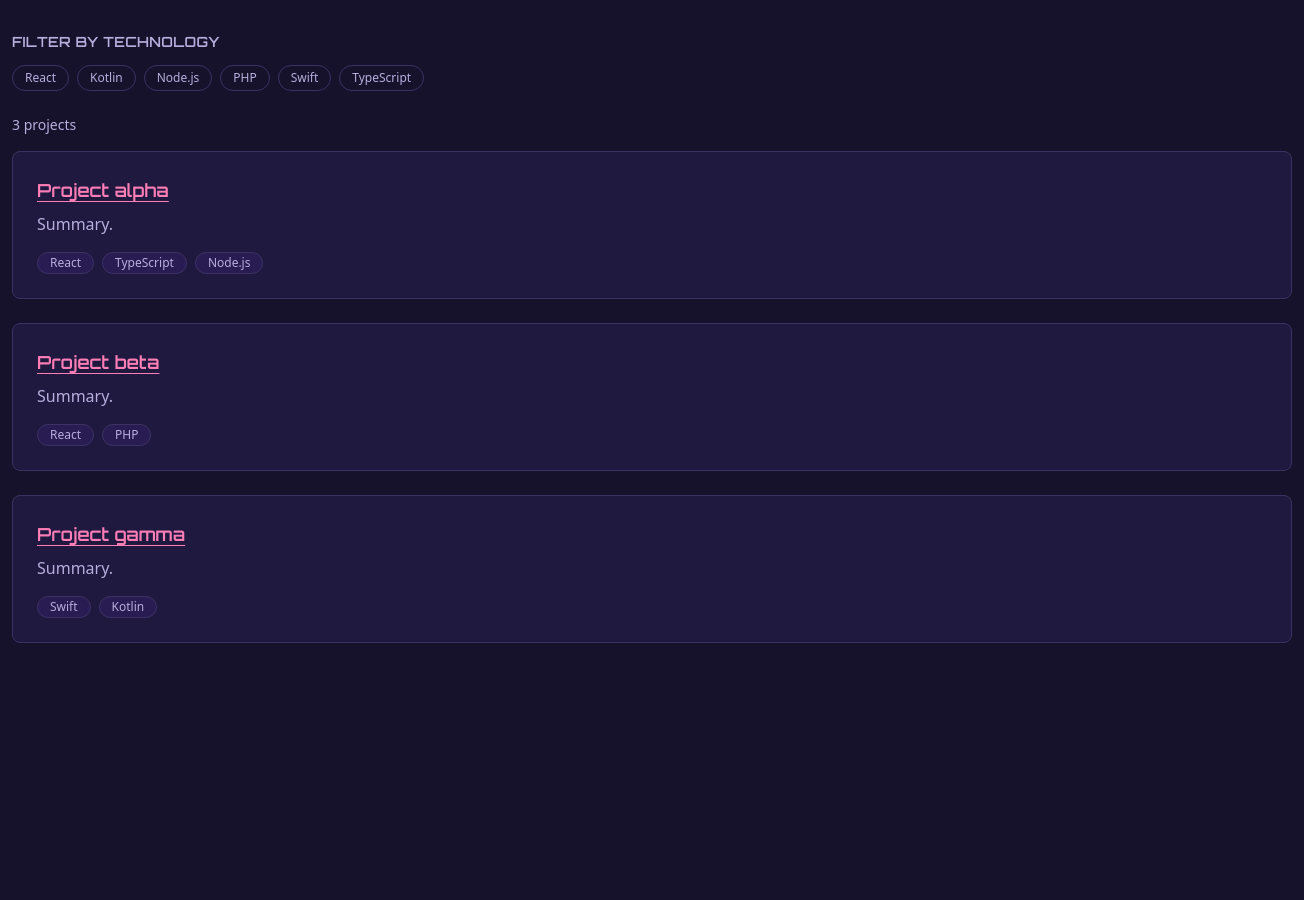
Test case: ProjectFilter › shows an empty-state message when no project matches all filters
Click the button "React". click: {"x": 41, "y": 78}
box: [12, 65, 69, 91]
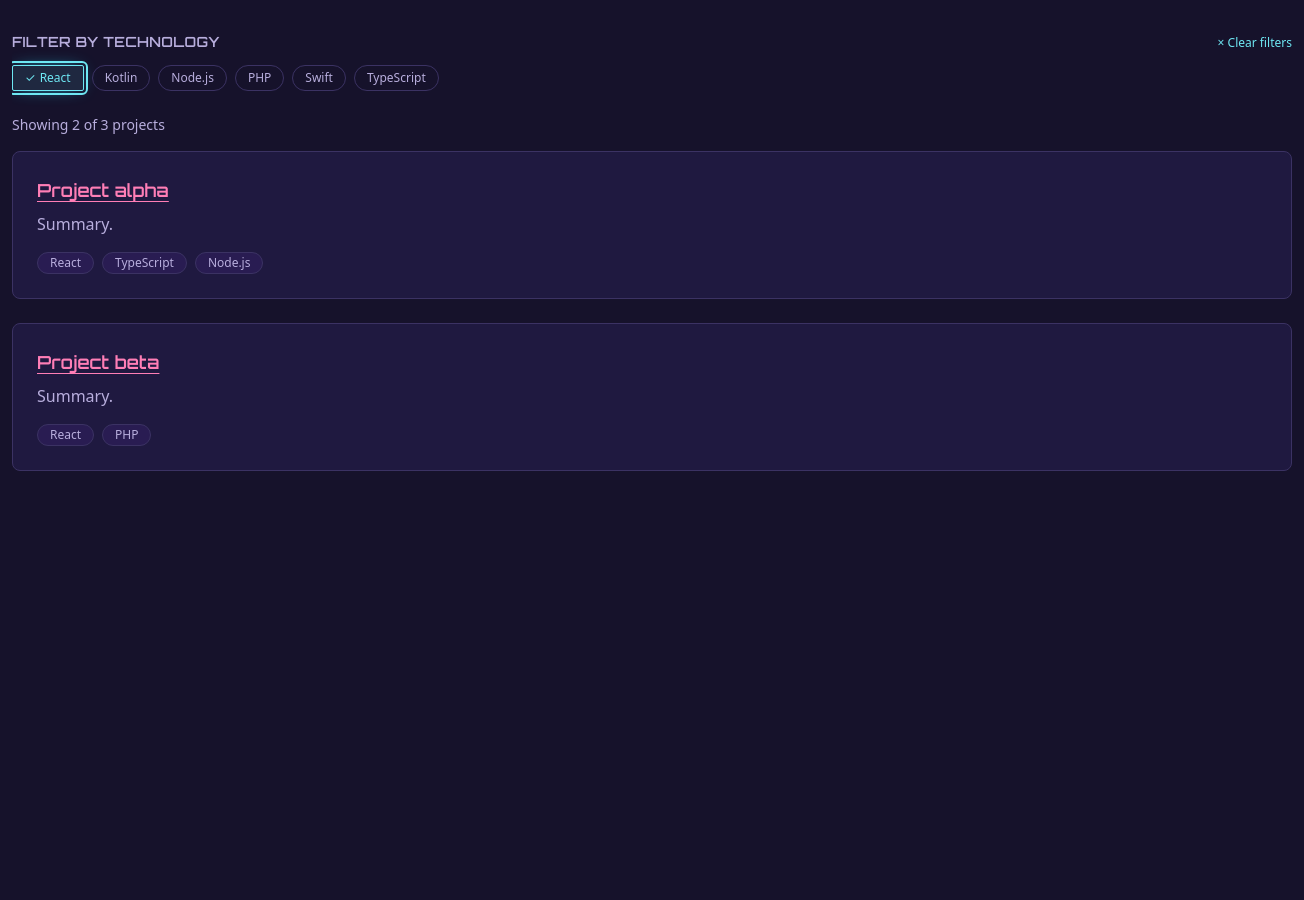
Click the button "Swift". click: {"x": 319, "y": 78}
box: [292, 65, 346, 91]
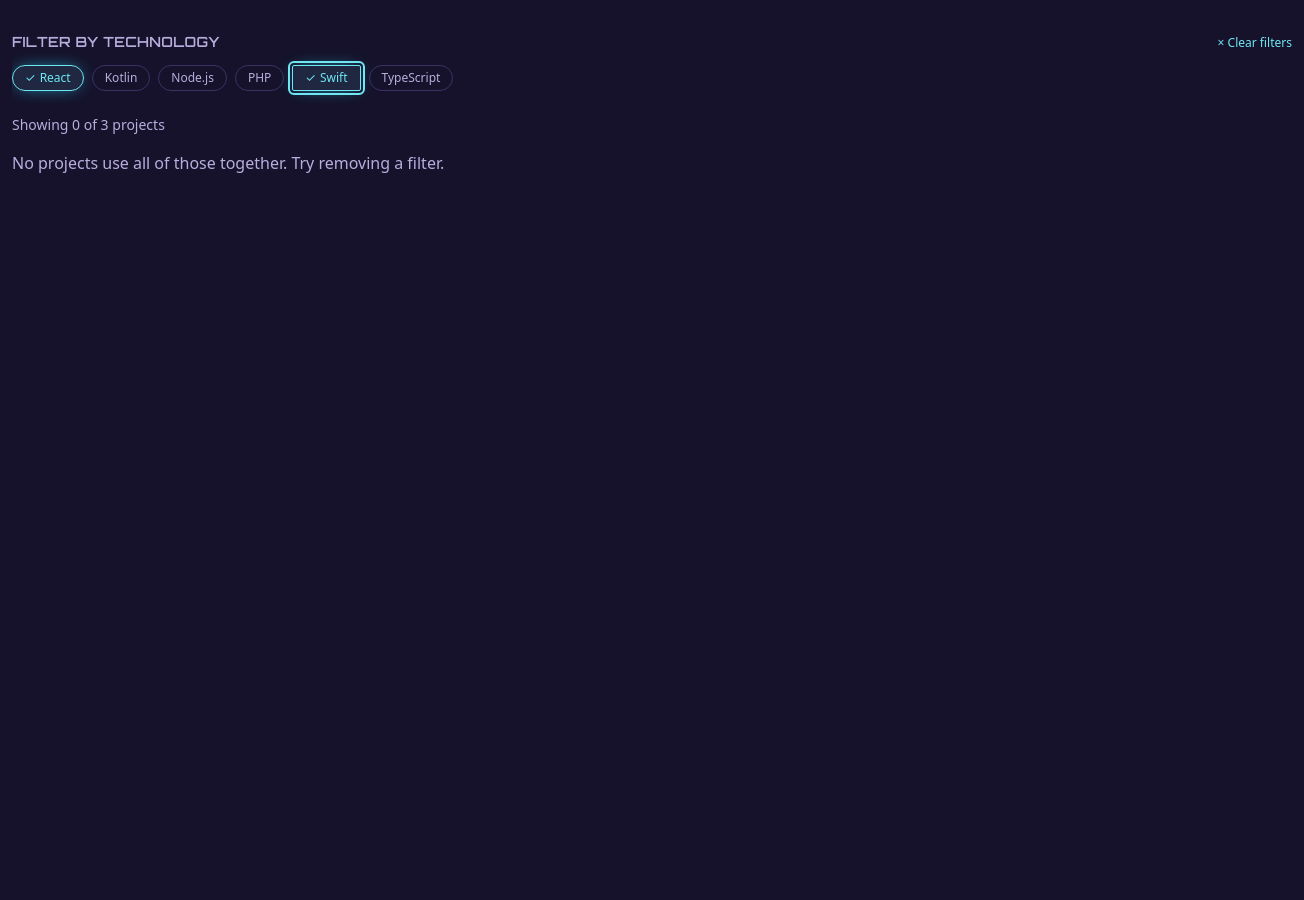
Now the text "No projects use all of those" is shown, box [12, 152, 444, 174]
